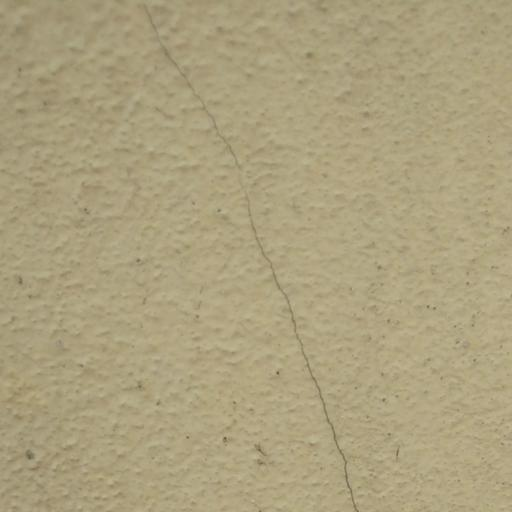minor_crack: (129, 0, 370, 512)
